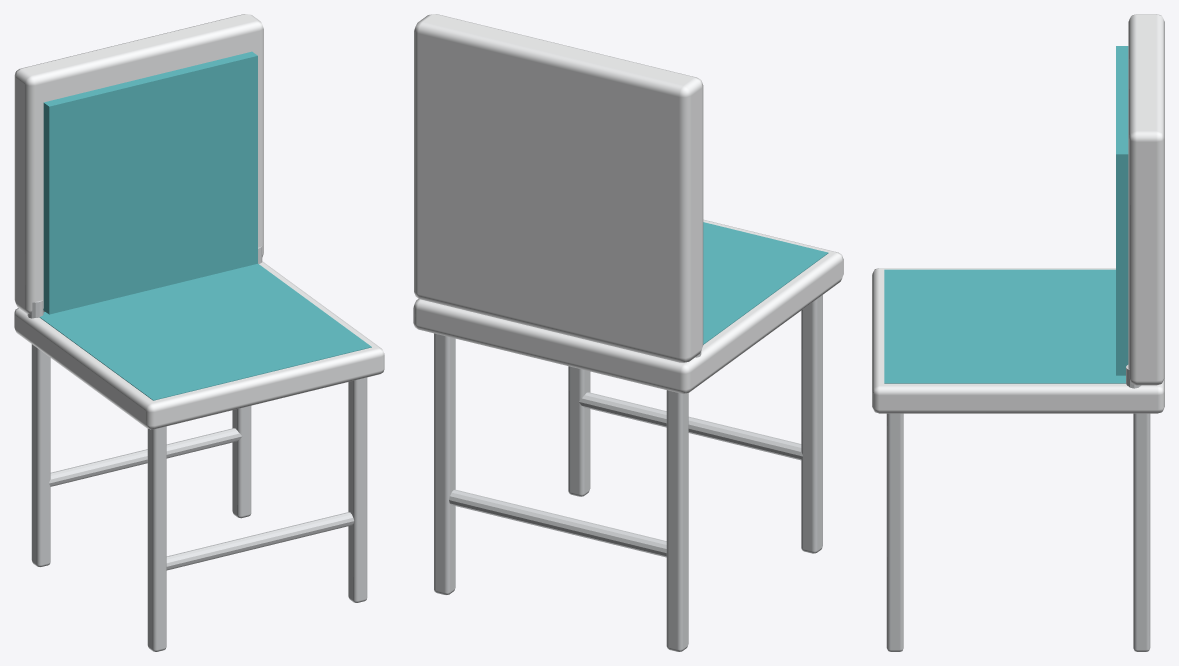
File: pharmacy-and-high-street-chemist-consultation-chair-aq-9776ebb4__37529.glb
3 renders of one model, left to right at view 1: azimuth 30°, elevation 25°; view 2: azimuth 150°, elevation 25°; view 3: azimuth 270°, elevation 25°, orthographic. The views are drawn at different scales.
Parts seen in each view (by area): view 1: consultation-chair-aqua; view 2: consultation-chair-aqua; view 3: consultation-chair-aqua.
Part boxes in pixels (x1,y1,x2,y2): consultation-chair-aqua: [14, 14, 384, 651]; consultation-chair-aqua: [413, 14, 843, 651]; consultation-chair-aqua: [872, 14, 1164, 651].
Size of the model in its own units: 0.48 by 0.95 by 0.48.
